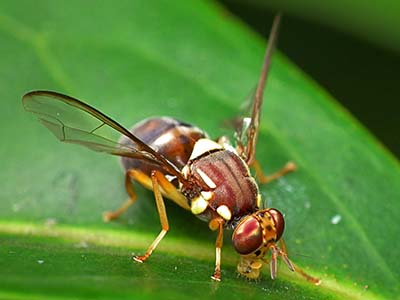Fruit fly: (34, 64, 315, 292)
